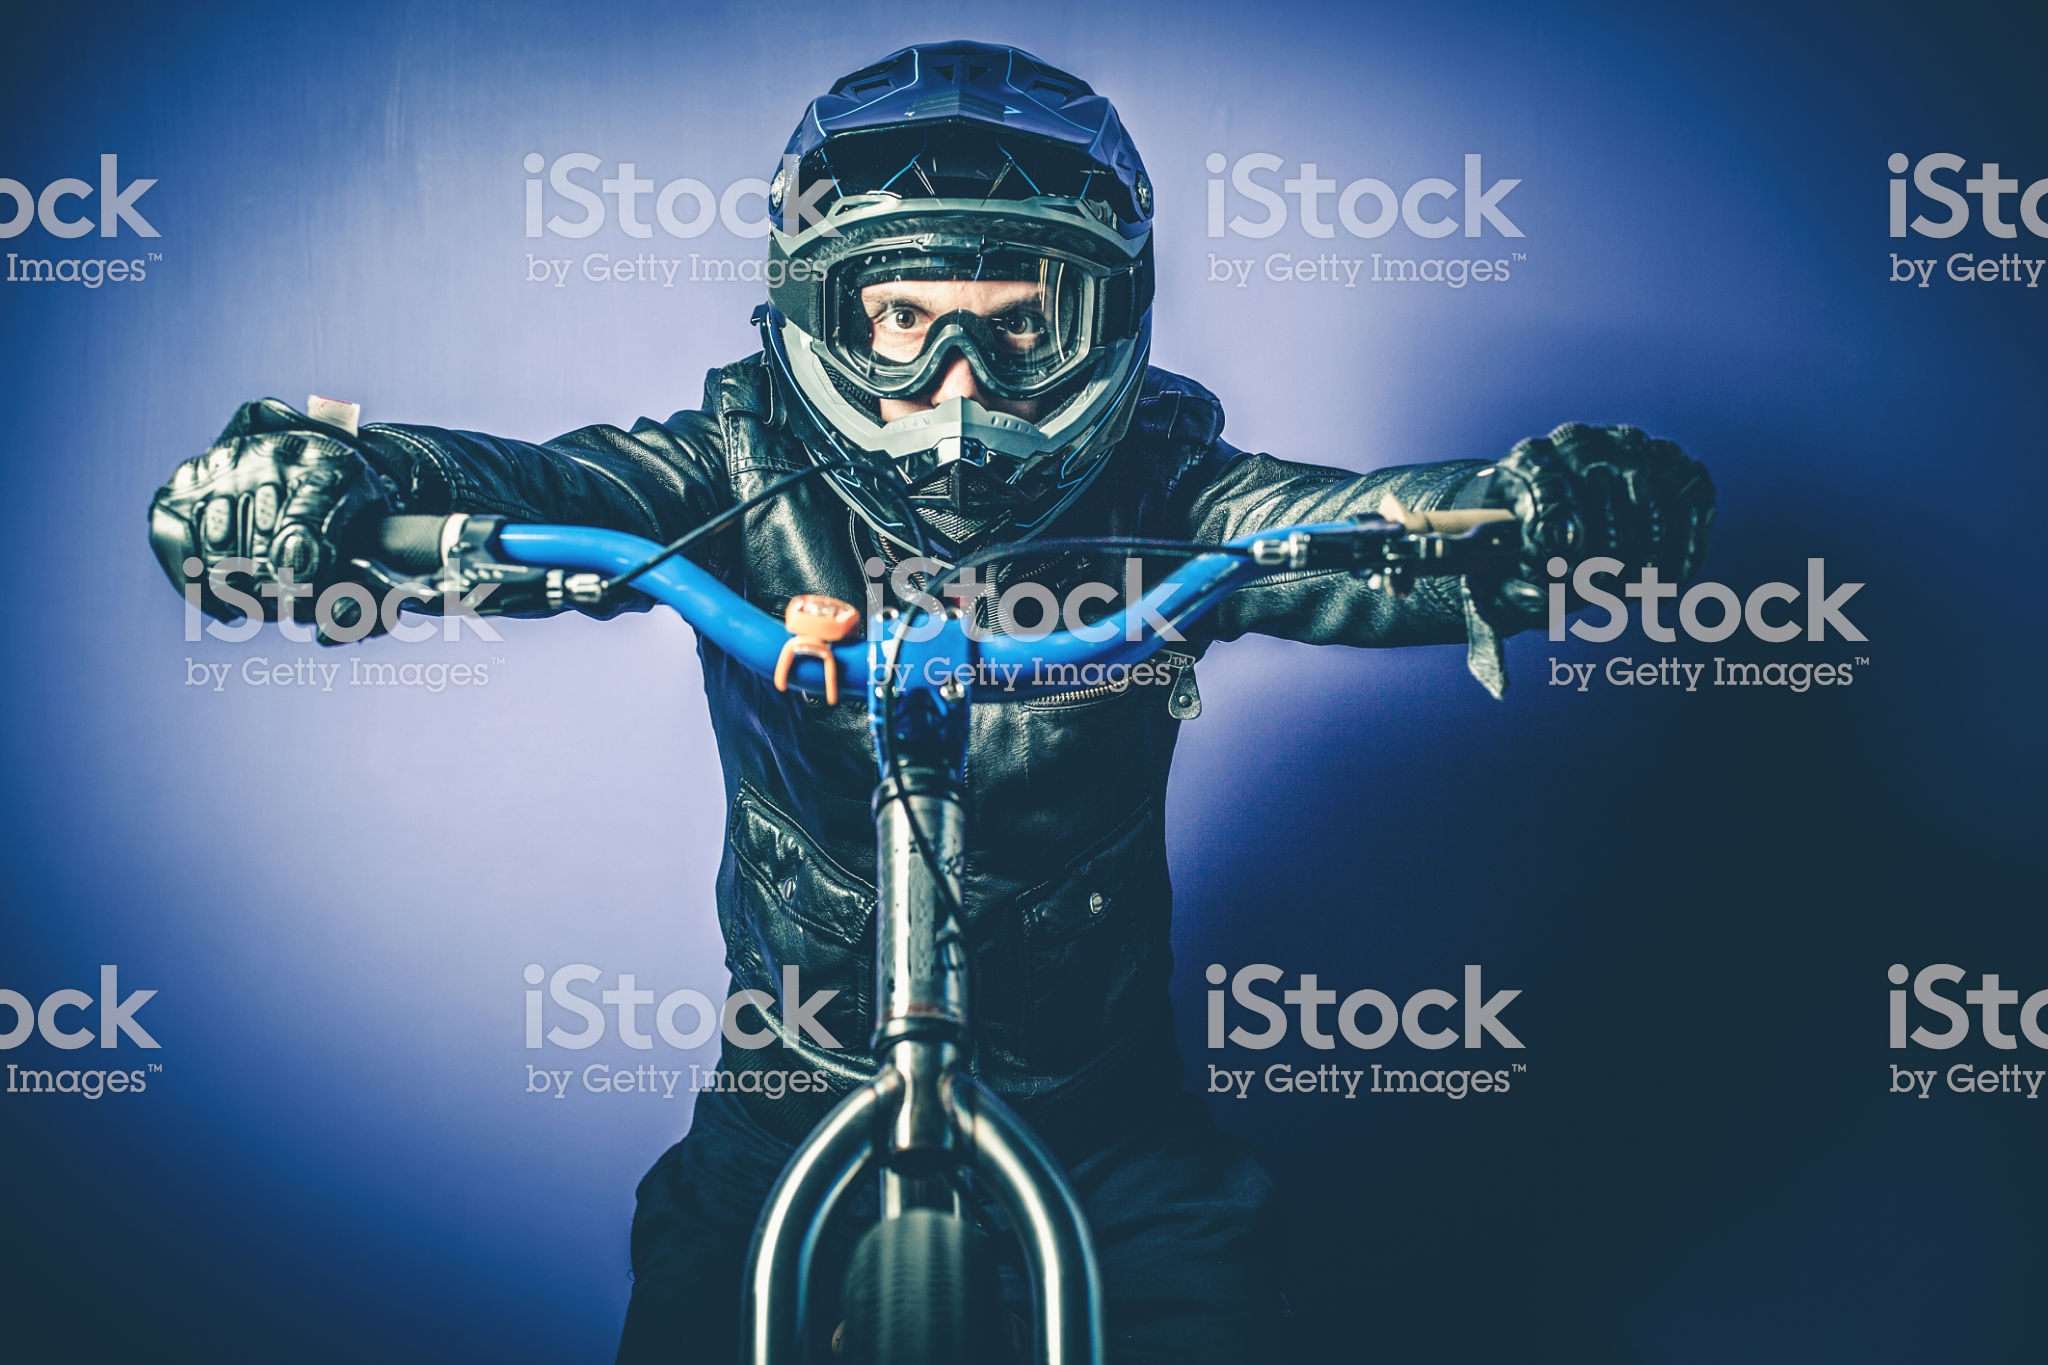helmet: (775, 44, 1171, 545)
